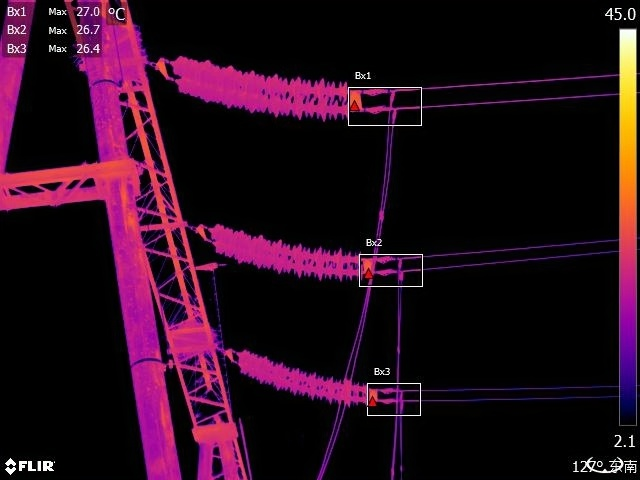clamp: (385, 82, 403, 120), (393, 257, 407, 280), (397, 388, 408, 411)
insulator: (169, 46, 354, 131), (208, 216, 368, 292), (234, 345, 370, 415)
